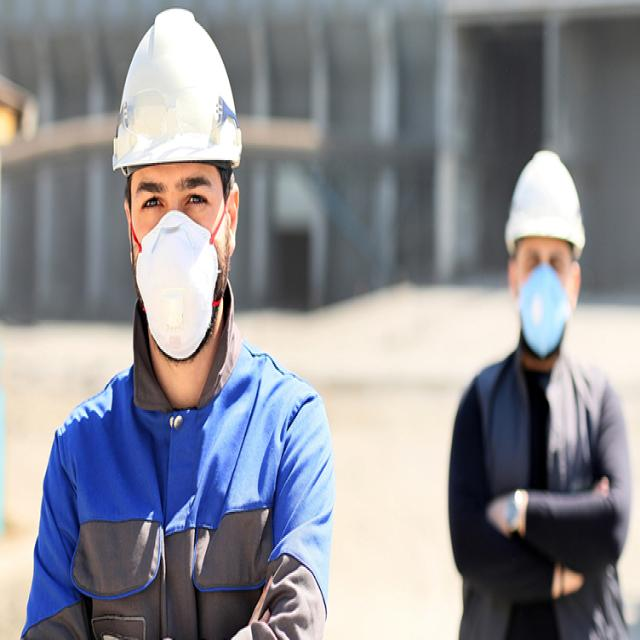helmet: (111, 5, 246, 175), (503, 146, 587, 258)
